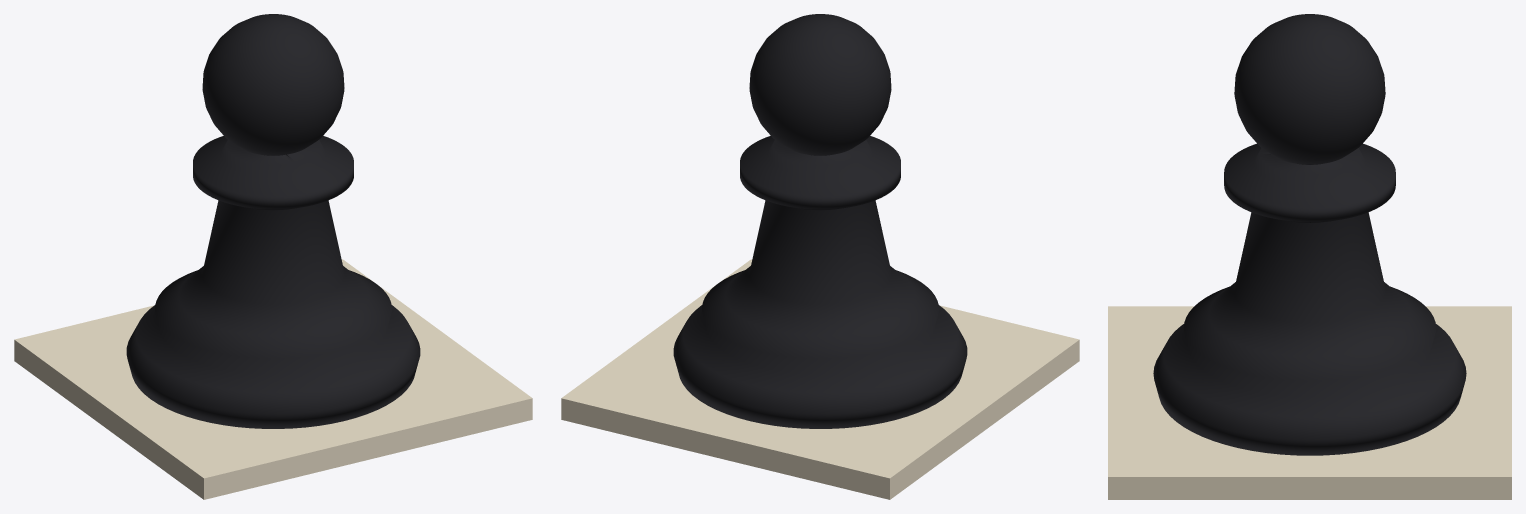
Rendered from pawn.glb.
The picture shows the model from 3 angles, left to right: view 1: azimuth 30°, elevation 25°; view 2: azimuth 150°, elevation 25°; view 3: azimuth 270°, elevation 25°; orthographic projection. The views are drawn at different scales.
Visible parts, largest first — view 1: Pawn, Board Tile; view 2: Pawn, Board Tile; view 3: Pawn, Board Tile.
Part boxes in pixels (x1,y1,x2,y2): Pawn: (126,14,420,428); Board Tile: (14,259,532,499); Pawn: (673,14,967,428); Board Tile: (561,259,1079,499); Pawn: (1153,14,1466,455); Board Tile: (1108,306,1511,499).
Bounding box in the file's own units: 0.8 × 0.86 × 0.8.
